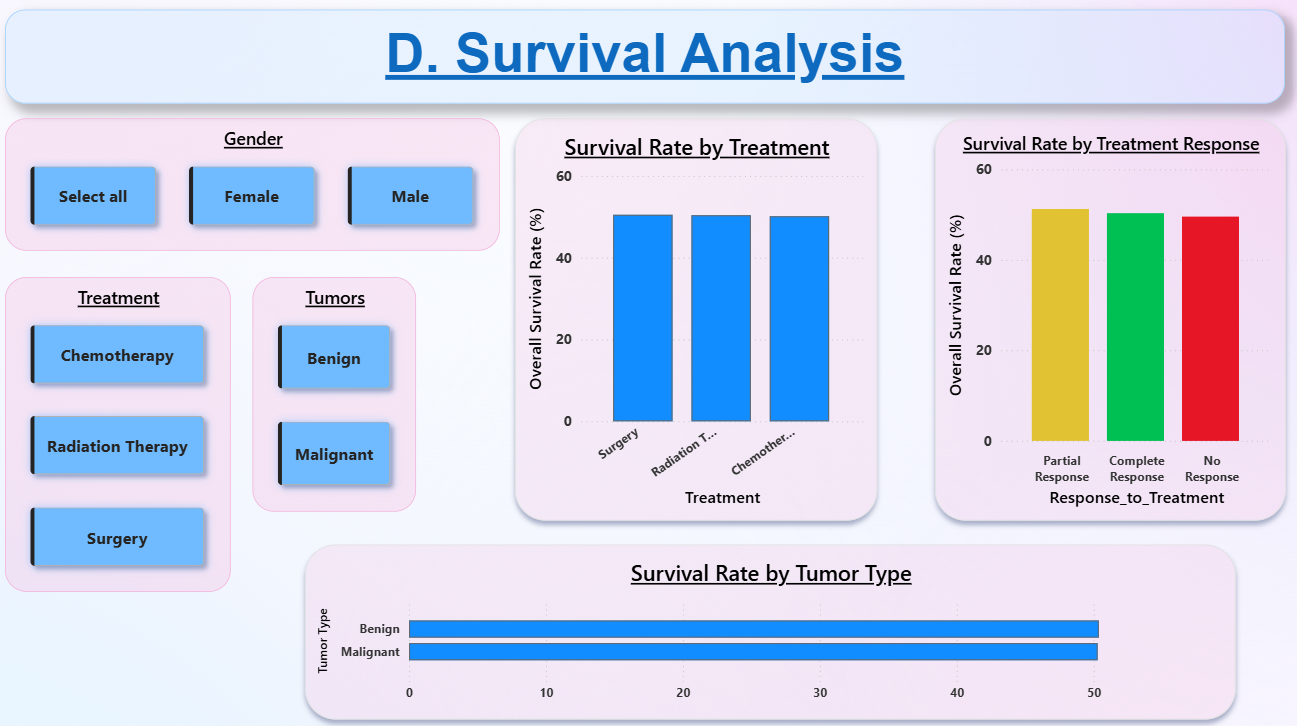

The page's visual inventory and layout, read from the dashboard file:
{"tool":"powerbi","page":{"name":"Survival Analysis","canvas":[1280,720],"ordinal":3},"visuals":[{"type":"textbox","box":[15.1,12.6,1252.3,92.1],"z":0},{"type":"advancedSlicerVisual","title":"Tumors","fields":{"Values":["cancer_diagnosis_data.Tumor_Type"]},"box":[257.3,273.7,160.2,229.5],"z":1000},{"type":"advancedSlicerVisual","title":"Gender","fields":{"Values":["cancer_diagnosis_data.Gender"]},"box":[15.1,118.5,484.3,129.9],"z":2000},{"type":"advancedSlicerVisual","title":"Treatment","fields":{"Values":["cancer_diagnosis_data.Treatment"]},"box":[15.1,273.7,220.7,307.7],"z":3000},{"type":"clusteredColumnChart","title":"Survival Rate by Treatment","fields":{"Category":["cancer_diagnosis_data.Treatment"],"Y":["cancer_diagnosis_data.Overall Survival Rate (%)"]},"box":[513.3,118.5,354.4,393.5],"z":4000},{"type":"barChart","title":"Survival Rate by Tumor Type","fields":{"Category":["cancer_diagnosis_data.Tumor_Type"],"Y":["cancer_diagnosis_data.Overall Survival Rate (%)"]},"box":[307.7,536,910.5,171.5],"z":5000},{"type":"clusteredColumnChart","title":"Survival Rate by Treatment Response","fields":{"Category":["cancer_diagnosis_data.Response_to_Treatment"],"Y":["cancer_diagnosis_data.Overall Survival Rate (%)"]},"box":[924.4,118.5,343,393.5],"z":6000}]}

Visuals, with their boxes in screenshot pixels (x1, y1, x2, y2), scaled from the page's 1280x720 canvas onto the 1297x726 screenshot:
textbox: <region>15, 13, 1284, 106</region>
"Tumors" advancedSlicerVisual: <region>261, 276, 423, 507</region>
"Gender" advancedSlicerVisual: <region>15, 119, 506, 250</region>
"Treatment" advancedSlicerVisual: <region>15, 276, 239, 586</region>
"Survival Rate by Treatment" clusteredColumnChart: <region>520, 119, 879, 516</region>
"Survival Rate by Tumor Type" barChart: <region>312, 540, 1234, 713</region>
"Survival Rate by Treatment Response" clusteredColumnChart: <region>937, 119, 1284, 516</region>
